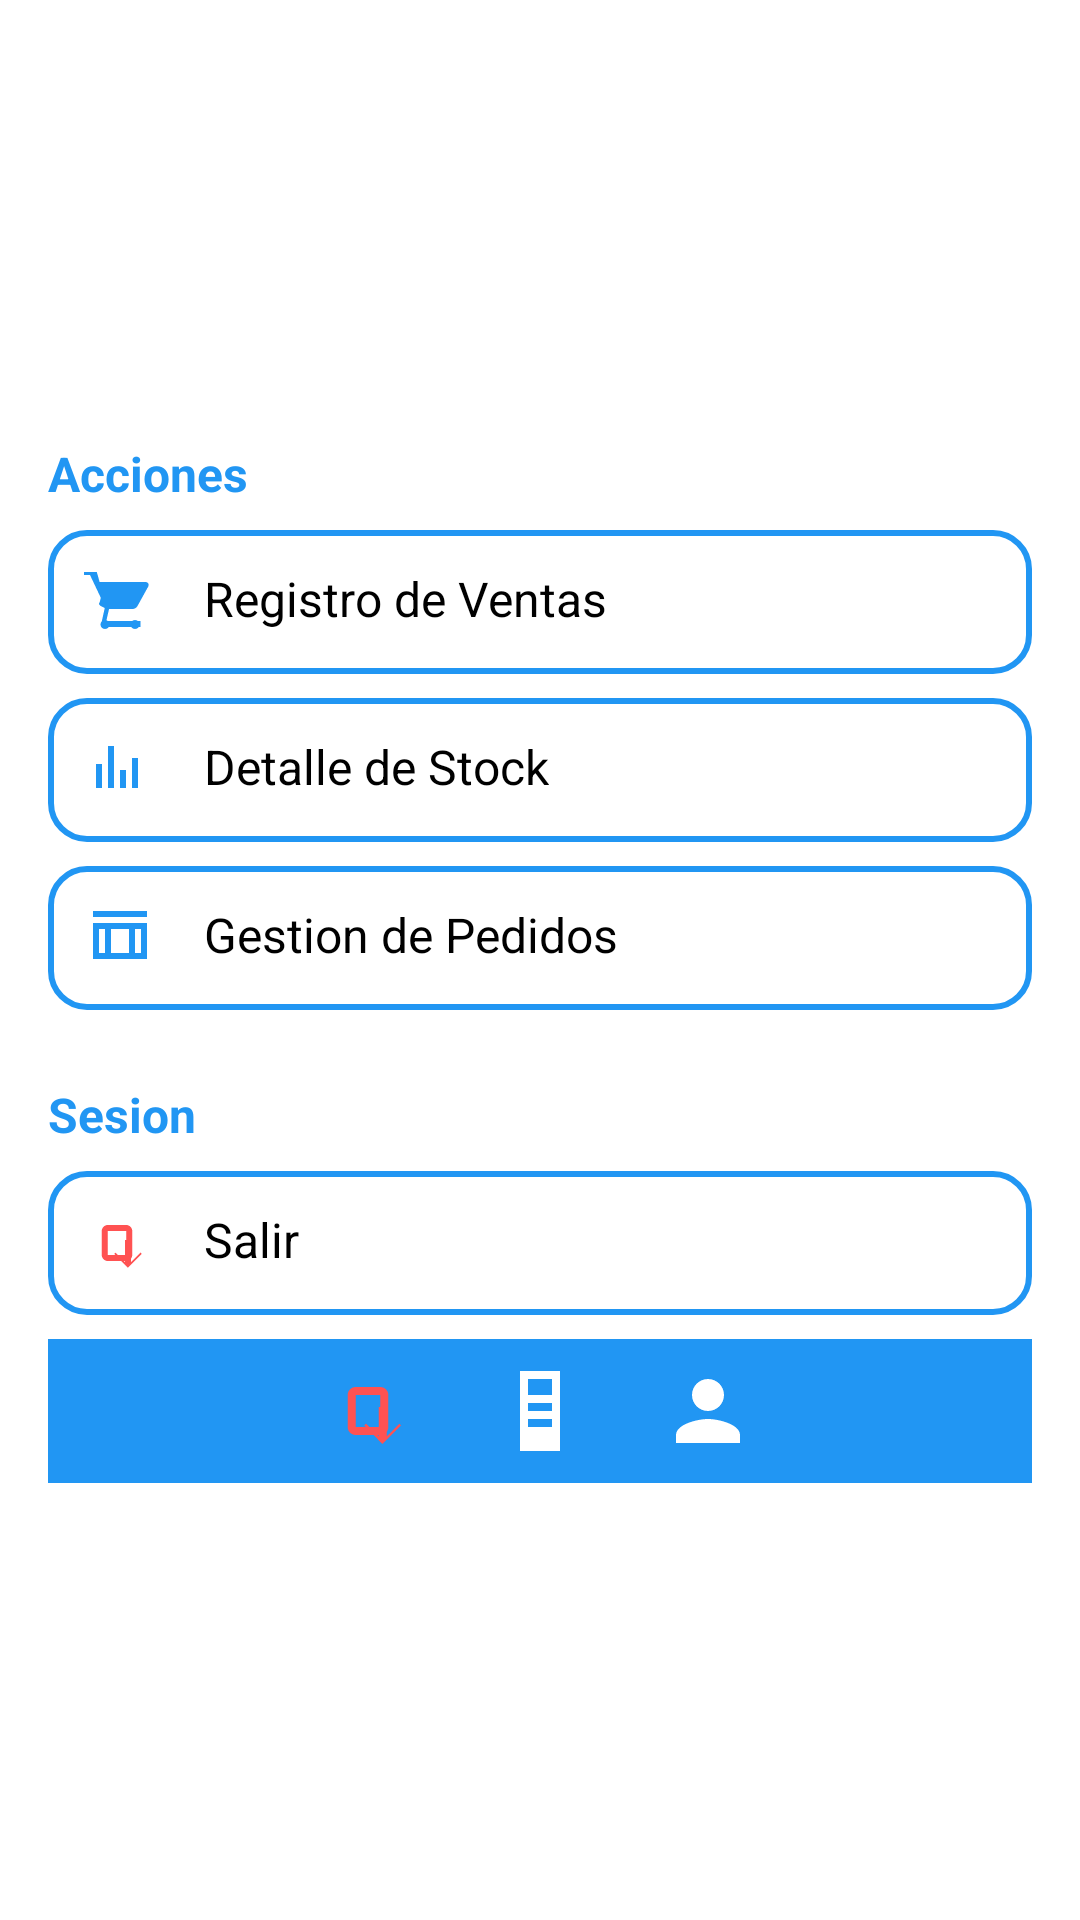

Point at icon controls on the screen. Image size 1080*1920, points as (x=x, y=y).
profile: (x=708, y=1411)
